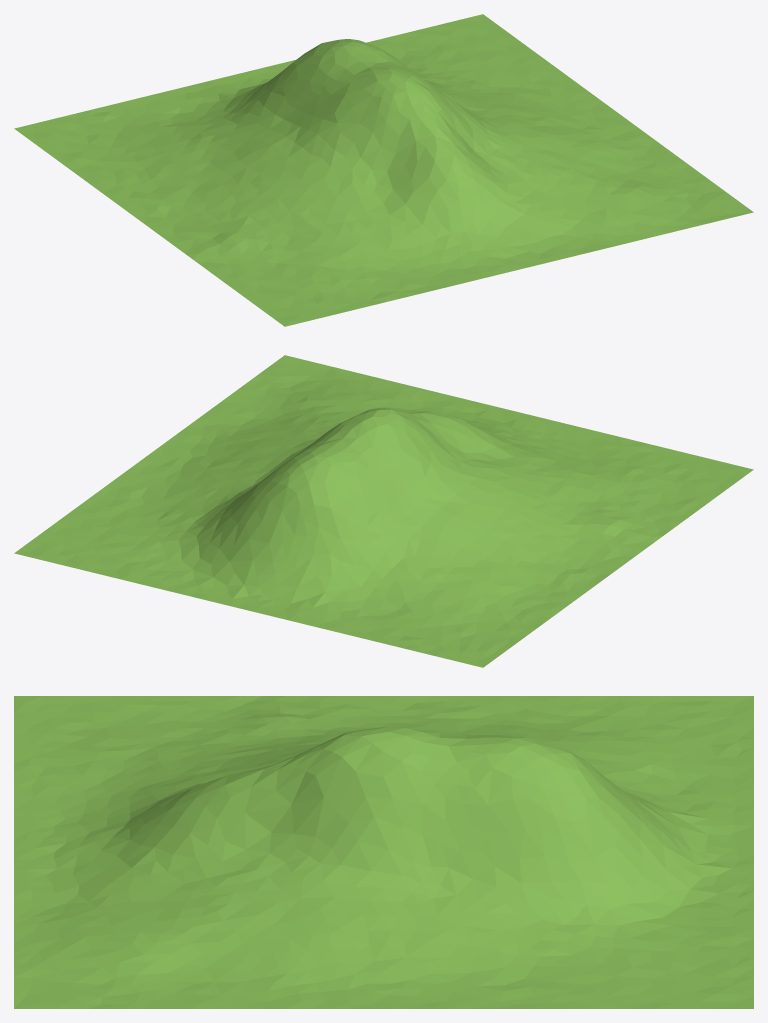
Rendered from MT_Terrain_L_a_16_LOD.fbx.
The picture shows the model from 3 angles, top to bottom: view 1: azimuth 30°, elevation 25°; view 2: azimuth 150°, elevation 25°; view 3: azimuth 270°, elevation 25°; orthographic projection. The views are drawn at different scales.
Visible parts, largest first — view 1: MT_Terrain_L_a_16_LOD0; view 2: MT_Terrain_L_a_16_LOD0; view 3: MT_Terrain_L_a_16_LOD0.
Boxes of the visible parts, <box> form: MT_Terrain_L_a_16_LOD0: <box>14,14,753,326</box>; MT_Terrain_L_a_16_LOD0: <box>14,355,753,667</box>; MT_Terrain_L_a_16_LOD0: <box>14,696,753,1008</box>.
Size of what is drawn, in the model's own units: 10000 by 1910 by 10000.
